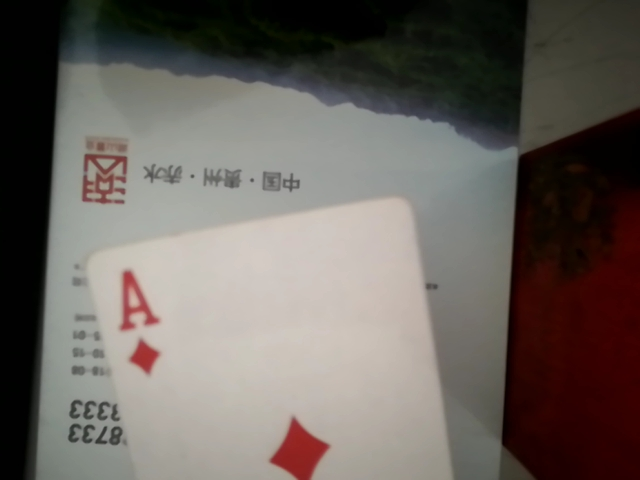fk a: (95, 194, 465, 480)
